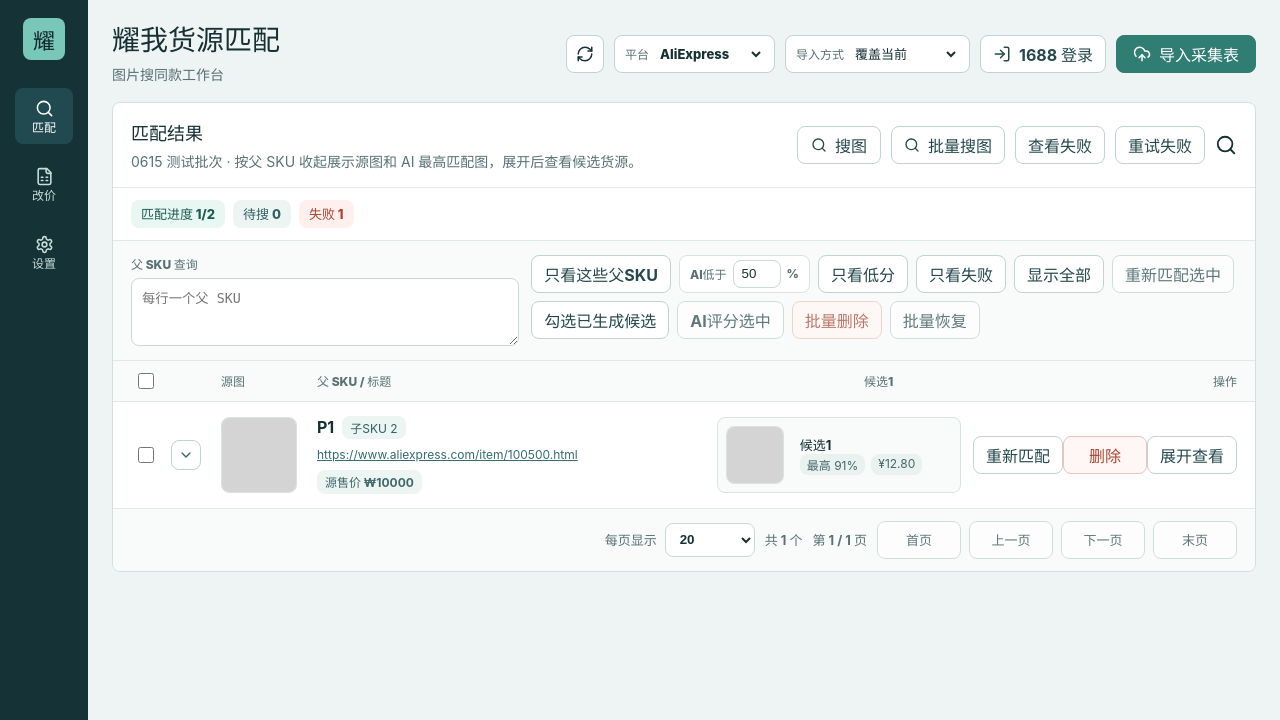
Test case: App › runs AI review for selected parent SKUs from the match page
Expected: the text "P1" is shown, 317,417 -> 334,437
Click the checkbox named "选择 P1" at x=146, y=455, box 138,447 -> 154,463
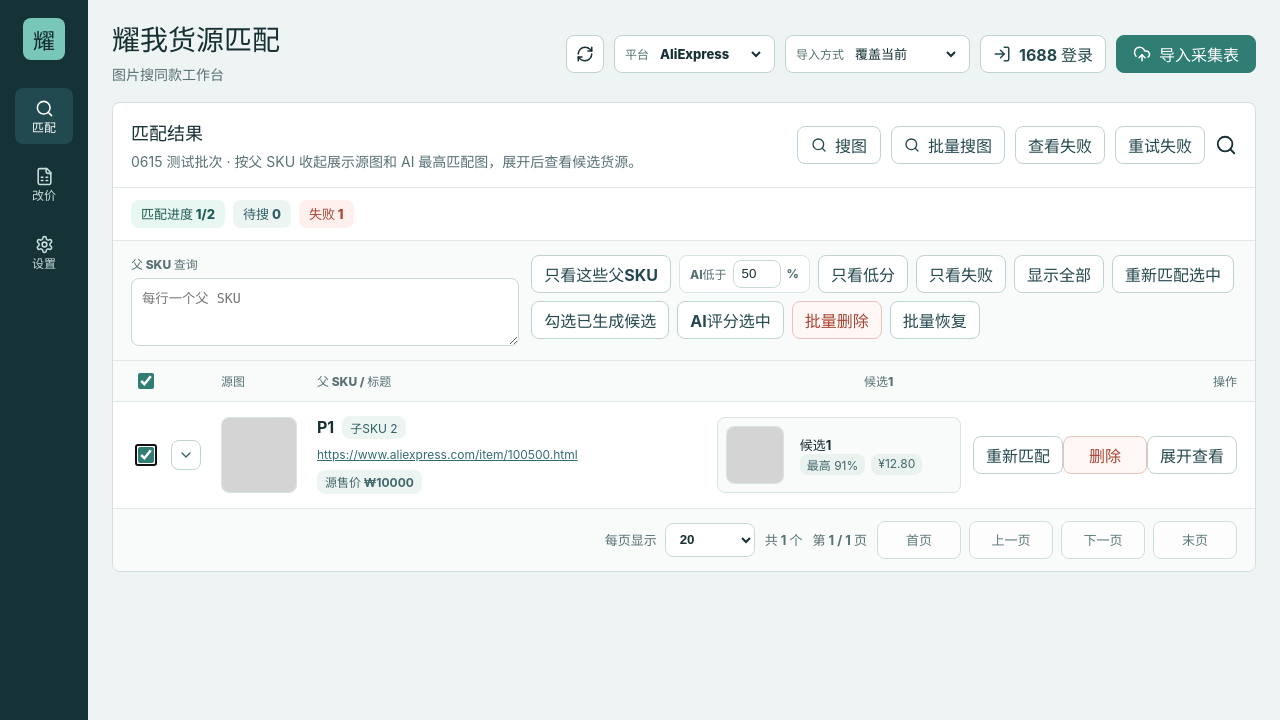
Click the button "AI评分选中" at x=730, y=320, box 677,301 -> 784,339
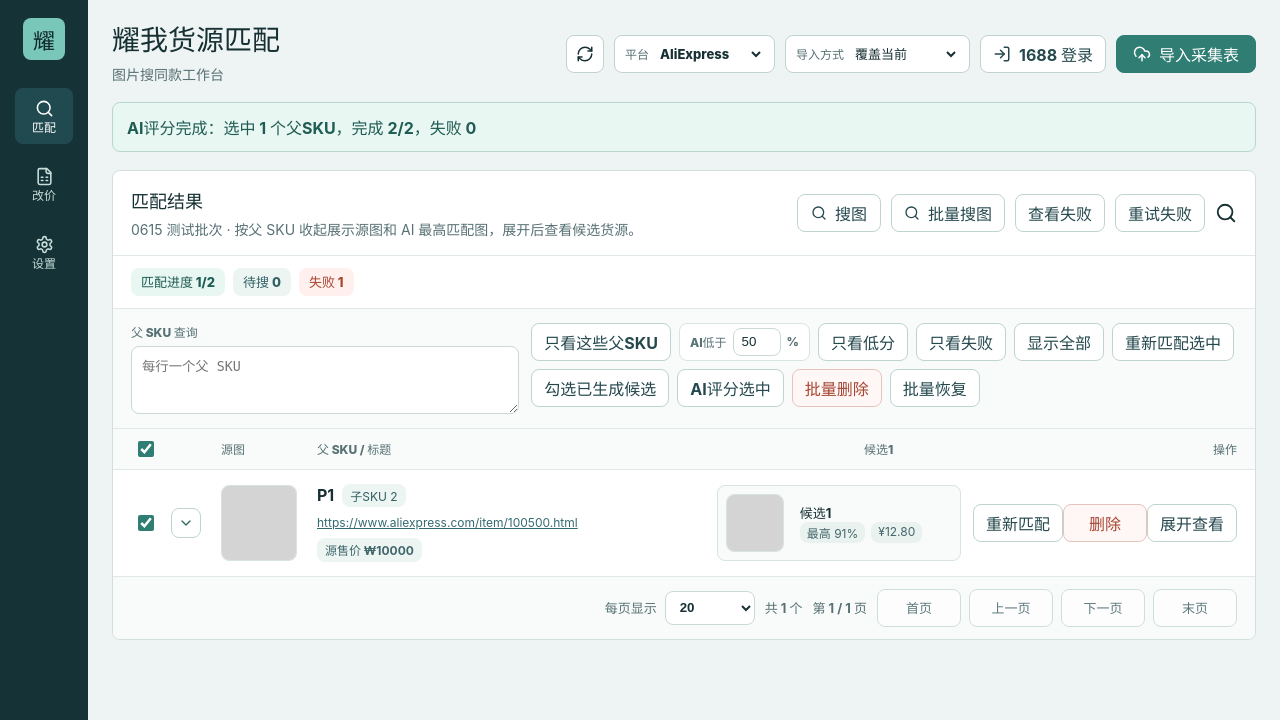
Result: the text "AI评分完成：选中 1 个父SKU，完成 2/2，失败 0" is shown at 112,102 -> 1256,152
